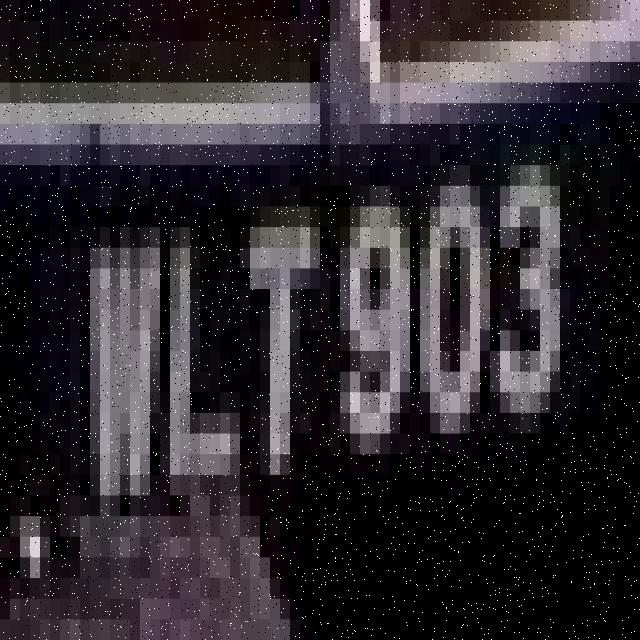licenseplate: (9, 8, 610, 607)
